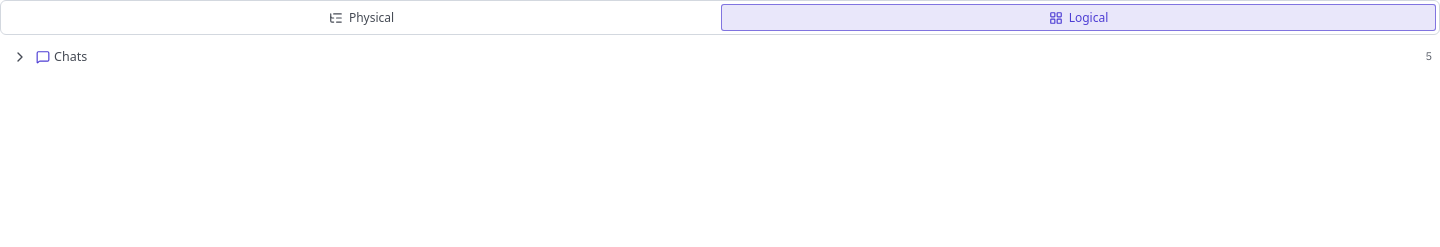
NavigatorPanel › closes the open type menu when the case changes
This screenshot has width=1440, height=247.
Step 1. Click the button named "Expand" → (20, 57), box [8,45,32,69]
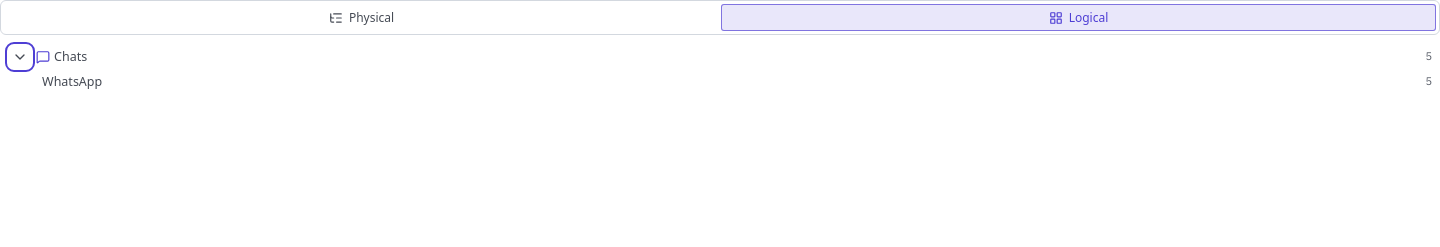
Step 2. Right-click the element "WhatsApp" → (1429, 81), box [0,71,1439,93]
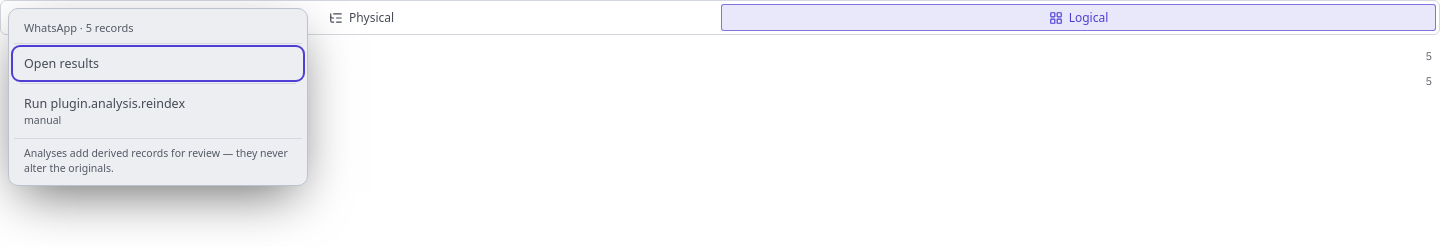
Check: the menu is shown, box [8,8,308,186]
Check: the text "WhatsApp · 5 records" is shown, box [14,14,302,44]
